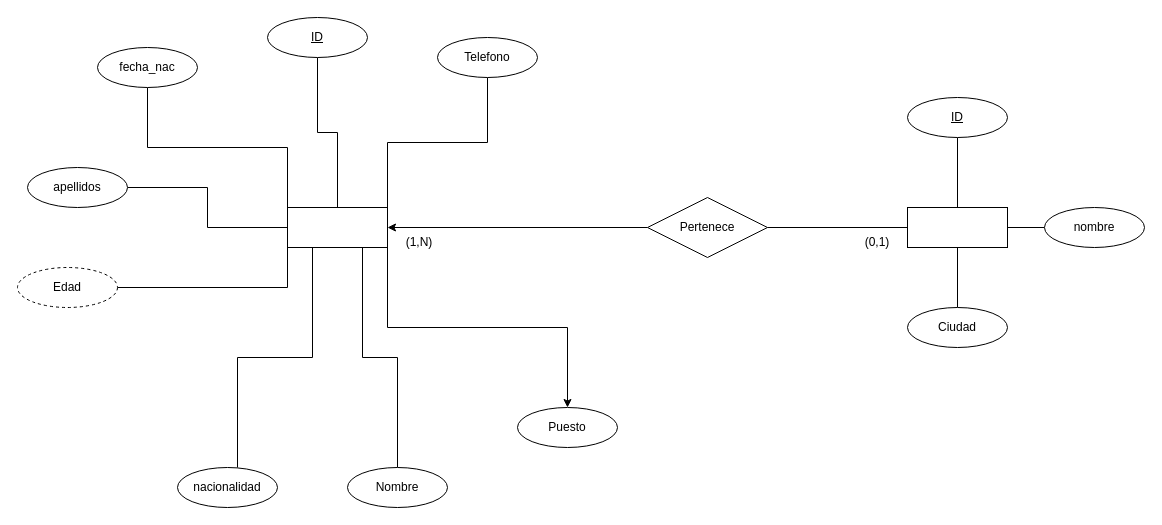
Some shapes in this 1162 by 525 pixel diagram are drawn without their labels. The shapes that lost their labels are listed below. From the top down, each one's centre as x and y in pixels, then its label:
At (337,227): "JUGADORES".
At (957,227): "EQUIPOS".
